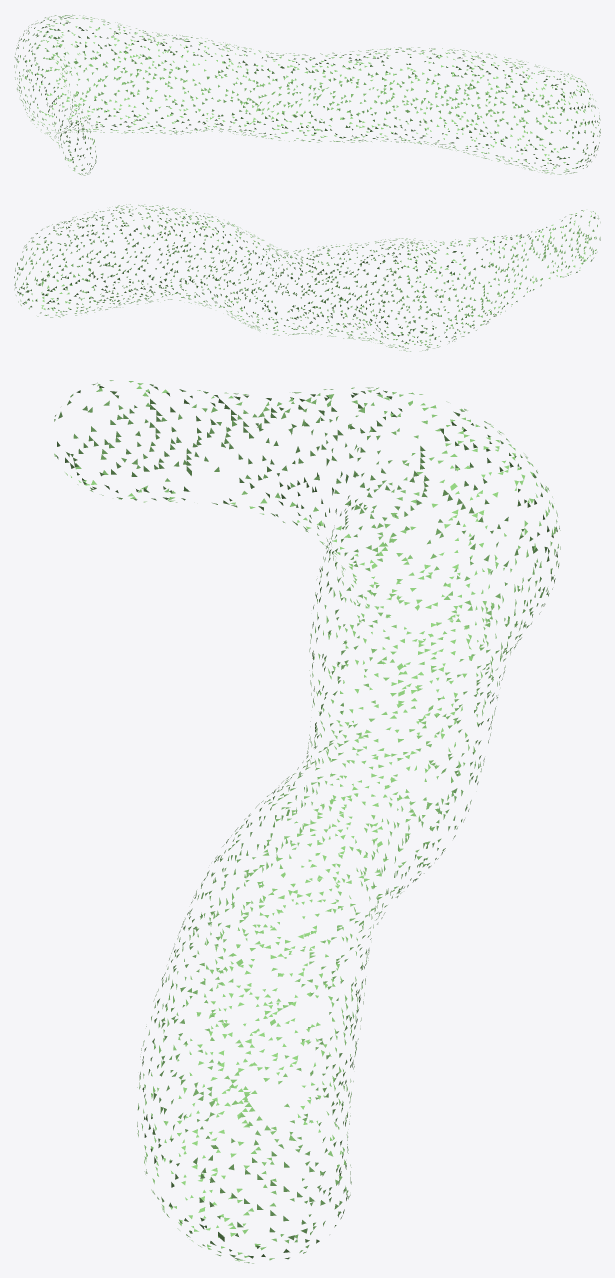
Rendered from morph_015.glb.
The picture shows the model from 3 angles, top to bottom: view 1: azimuth 30°, elevation 25°; view 2: azimuth 150°, elevation 25°; view 3: azimuth 270°, elevation 25°; orthographic projection. The views are drawn at different scales.
Bounding box in the file's own units: 136 × 52.16 × 56.92.
